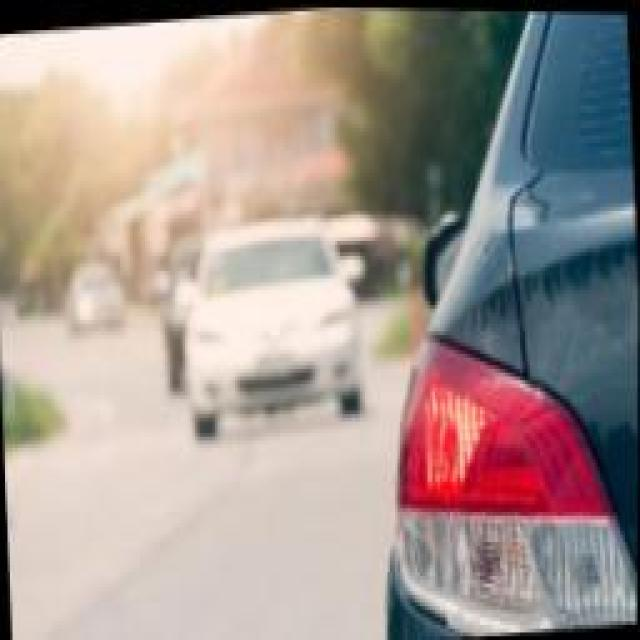Light: (388, 388, 561, 609)
